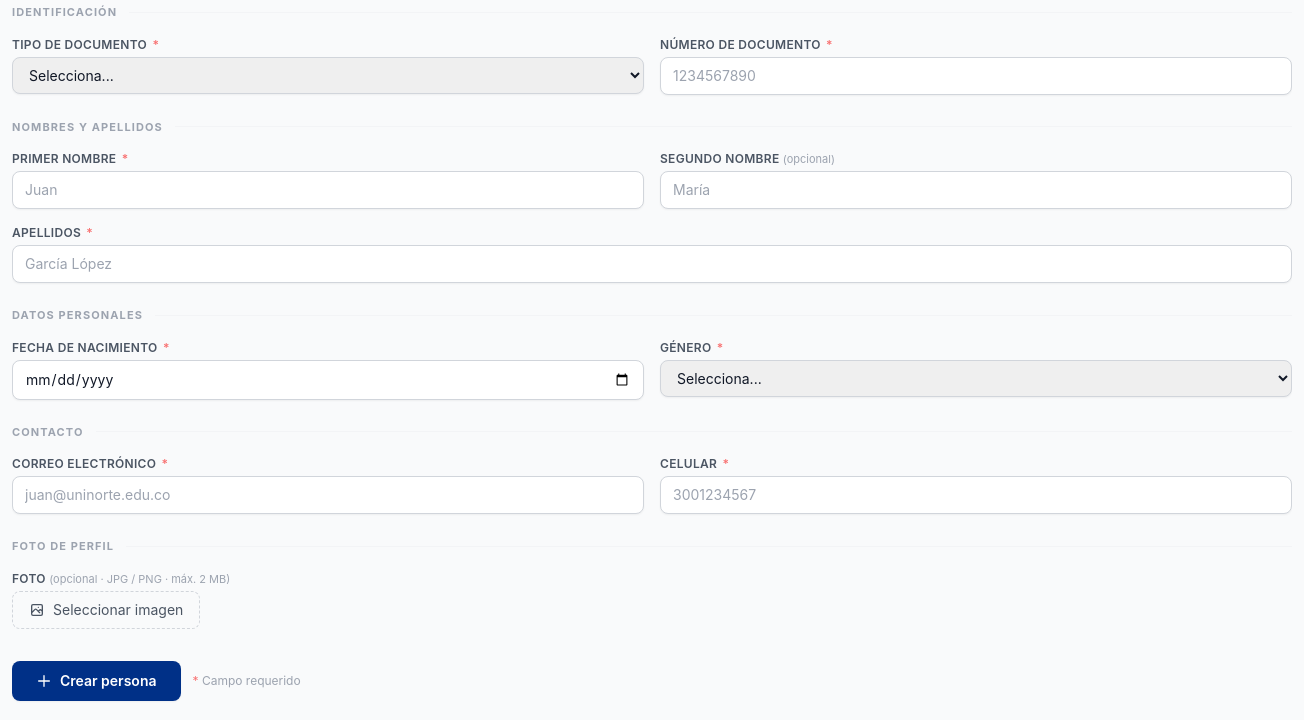
Test: spec 010 — PersonaForm › valida nro_documento solo dígitos, máx 10
The image size is (1304, 720).
Type "abc123!!!XY" into the field labelled "Número de documento *". click: (976, 76)
box: [660,56,1292,94]
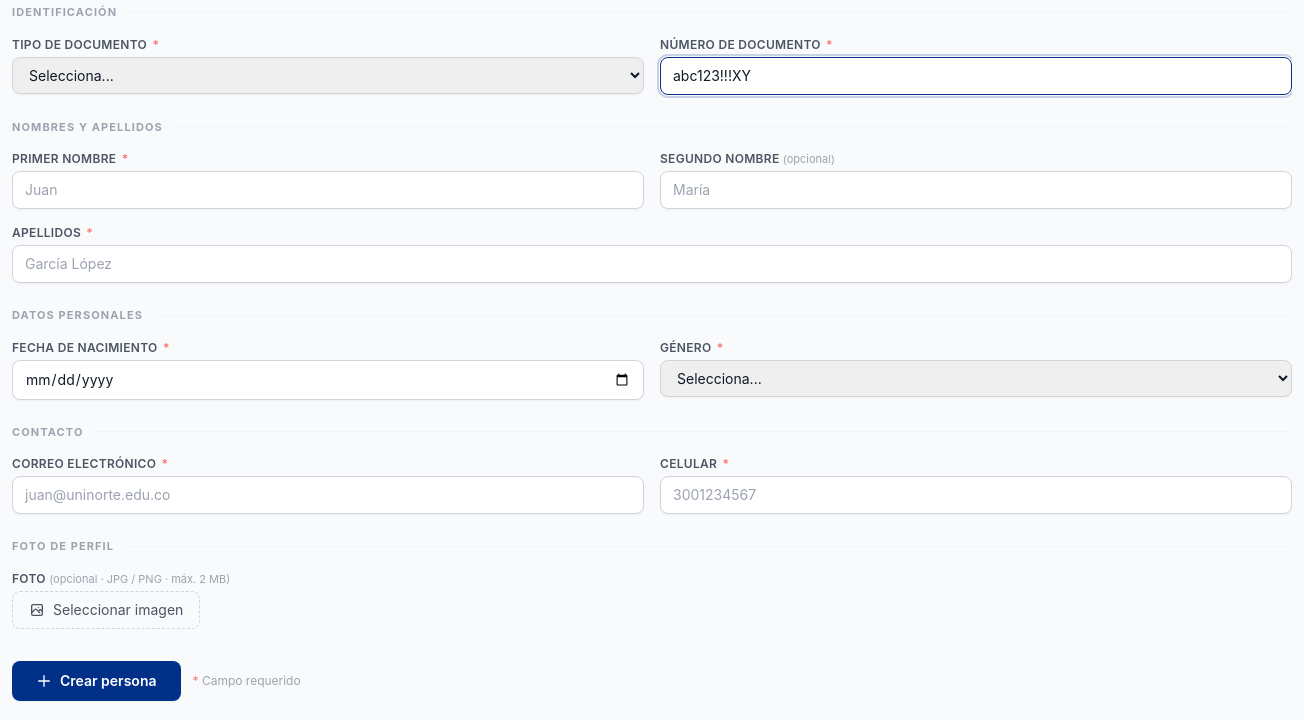
Click the button "Crear persona". click: (96, 680)
box: [12,660,180,700]
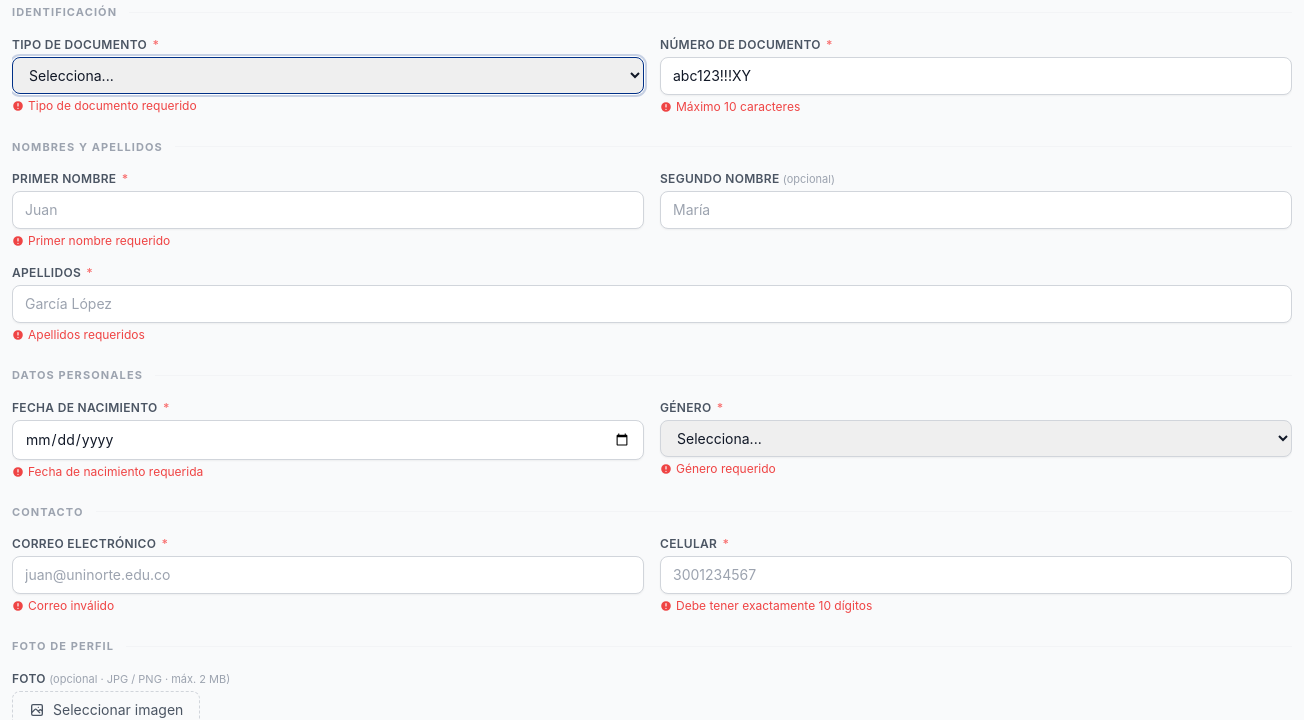
expect the text "Máximo 10 caracteres" is shown: met, box [660,98,800,114]
